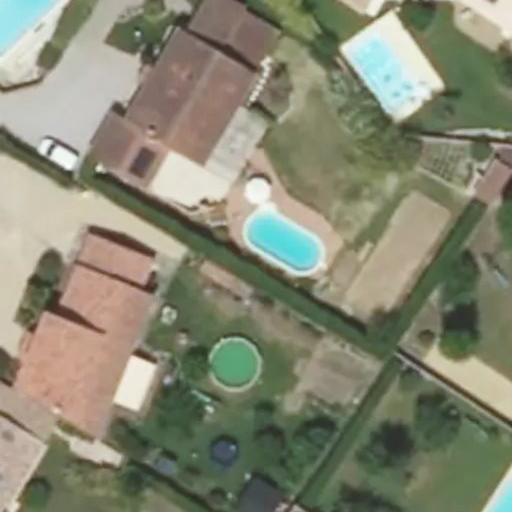pool: (348, 36, 423, 111), (245, 211, 322, 273), (1, 1, 59, 59), (206, 334, 263, 392)
